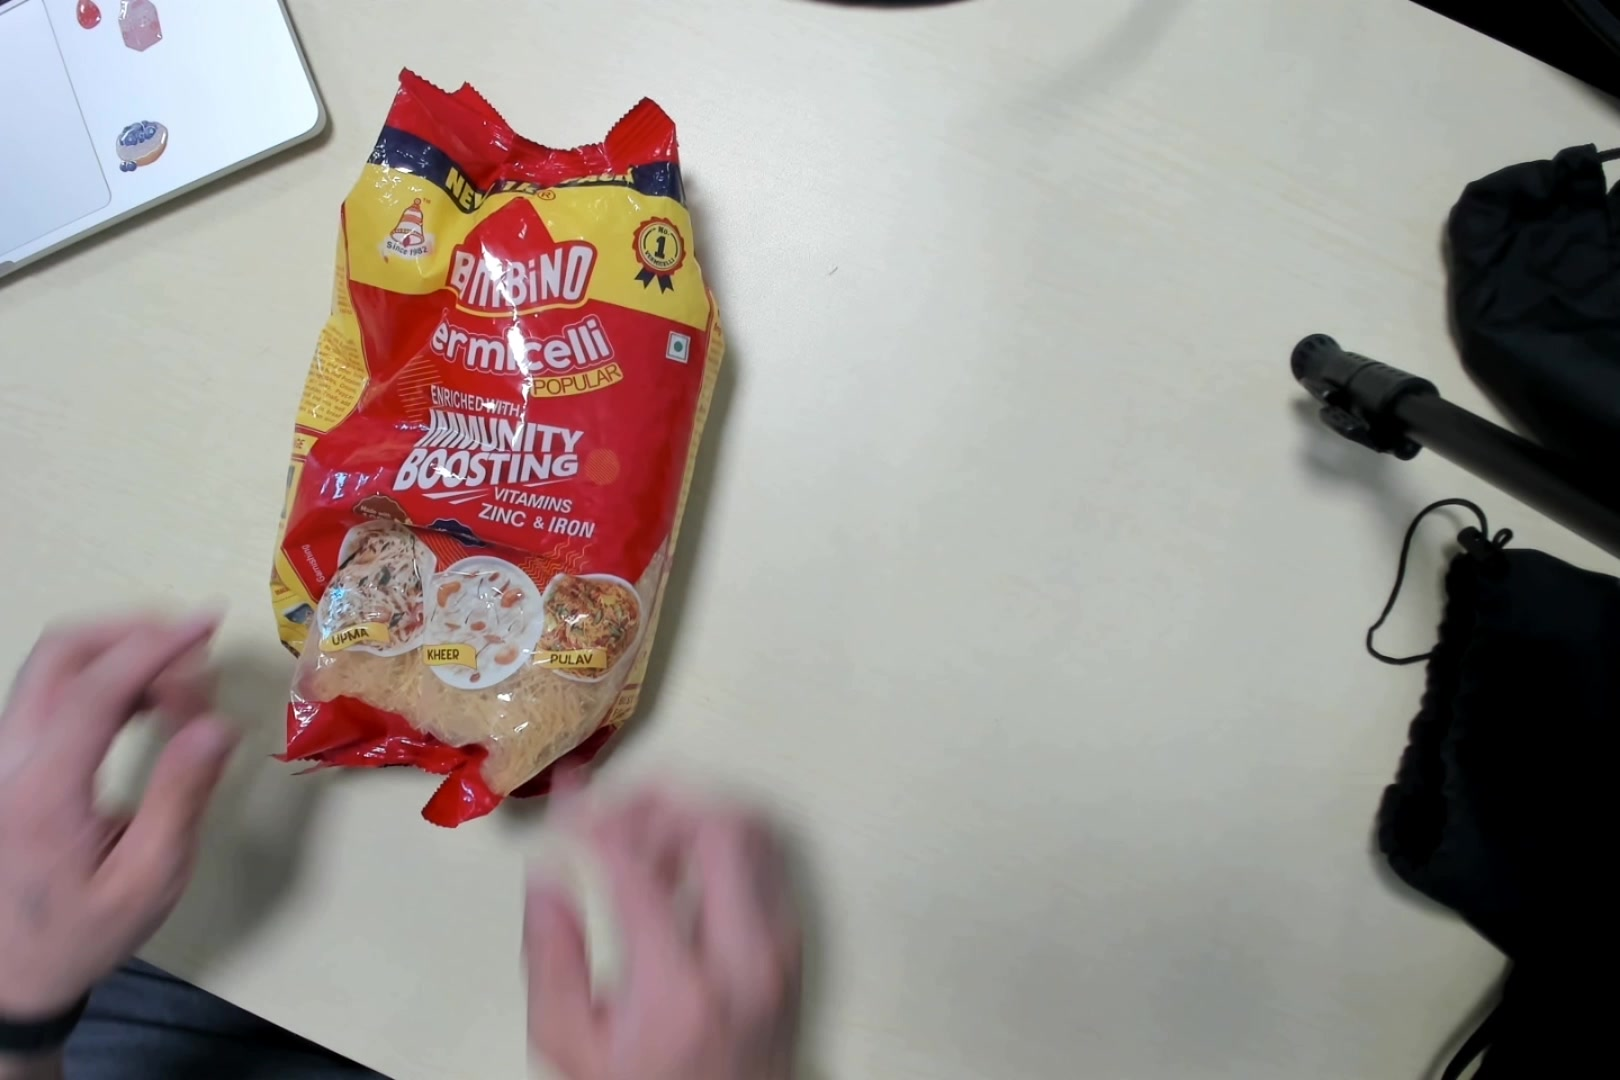OtherNoodles_300-399g_Halal_NonHealthy: (262, 82, 711, 787)
